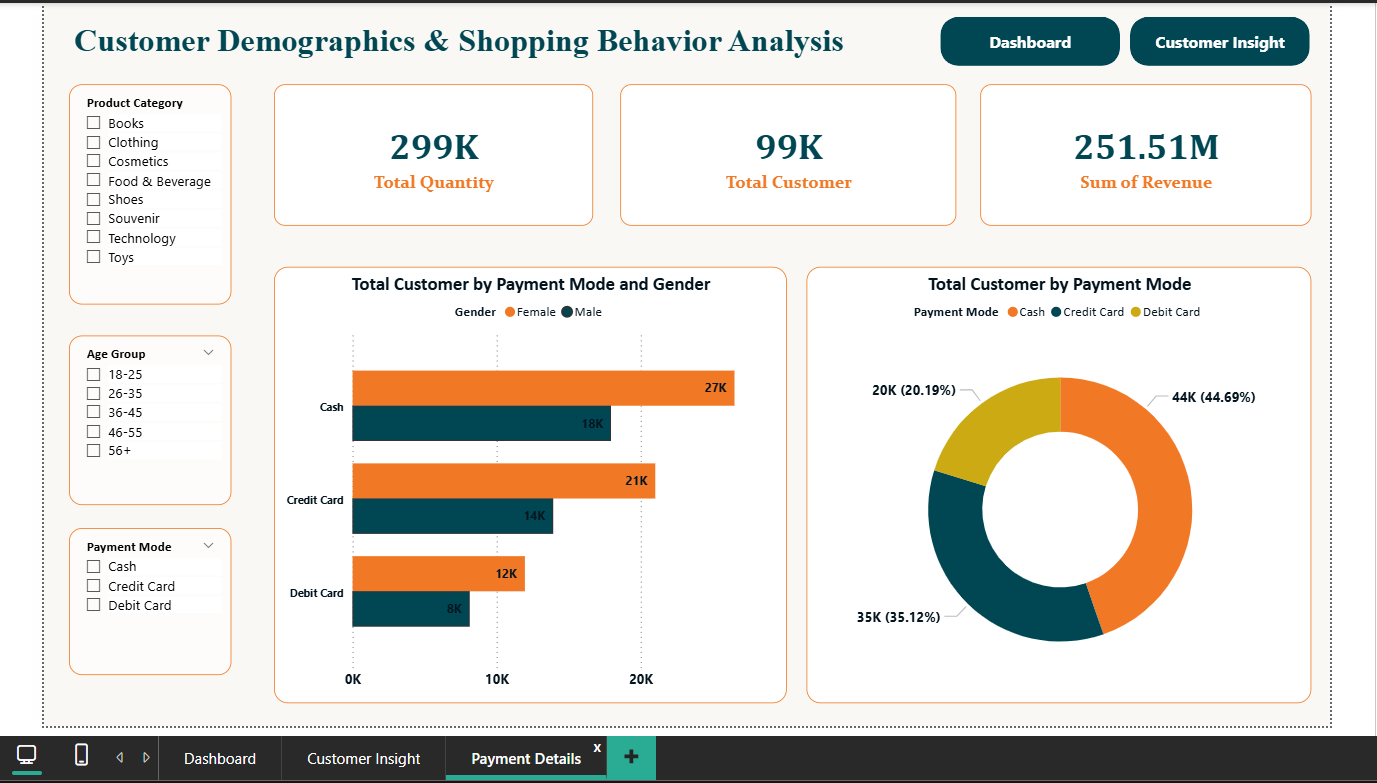

The page's visual inventory and layout, read from the dashboard file:
{"tool":"powerbi","page":{"name":"Payment Details","canvas":[1280,720],"ordinal":2},"visuals":[{"type":"pieChart","title":"Total Customer by Payment Mode","fields":{"Category":["Customer_data.Payment_Mode"],"Y":["Customer_data.Invoice Count"]},"box":[758.8,262.5,502.6,434.1],"z":0},{"type":"slicer","fields":{"Values":["Customer_data.Payment_Mode"]},"box":[24.9,522.5,161.7,146.8],"z":1000},{"type":"clusteredBarChart","title":"Total Customer by Payment Mode and Gender","fields":{"Series":["Customer_data.Gender"],"Category":["Customer_data.Payment_Mode"],"Y":["Customer_data.Invoice Count"]},"box":[228.9,262.5,510,434.1],"z":2000},{"type":"card","fields":{"Values":["Customer_data.Invoice Count"]},"box":[573.5,80.9,334.6,140.6],"z":3000},{"type":"card","fields":{"Values":["Sum(Customer_data.Revenue)"]},"box":[931.7,80.9,329.6,140.6],"z":4000},{"type":"card","fields":{"Values":["Customer_data.Total Quantity"]},"box":[228.9,80.9,317.2,140.6],"z":5000},{"type":"slicer","fields":{"Values":["Customer_data.Age_Group"]},"box":[24.9,330.9,161.7,169.2],"z":6000},{"type":"slicer","fields":{"Values":["Customer_data.Product_Category"]},"box":[24.9,80.9,161.7,218.9],"z":7000},{"type":"textbox","box":[24.9,13.7,801.1,52.2],"z":8000},{"type":"pageNavigator","box":[891.9,13.7,369.5,49.8],"z":9000}]}

Visuals, with their boxes on the page's 1280x720 design canvas (x1, y1, x2, y2). These are canvas units, not pixel positions in the 1377x783 screenshot, which may show the page scaled, cropped or inside an application window:
"Total Customer by Payment Mode" pieChart: box(759, 262, 1261, 697)
slicer - Customer_data.Payment_Mode: box(25, 522, 187, 669)
"Total Customer by Payment Mode and Gender" clusteredBarChart: box(229, 262, 739, 697)
card - Customer_data.Invoice Count: box(574, 81, 908, 222)
card - Sum(Customer_data.Revenue): box(932, 81, 1261, 222)
card - Customer_data.Total Quantity: box(229, 81, 546, 222)
slicer - Customer_data.Age_Group: box(25, 331, 187, 500)
slicer - Customer_data.Product_Category: box(25, 81, 187, 300)
textbox: box(25, 14, 826, 66)
pageNavigator: box(892, 14, 1261, 64)
